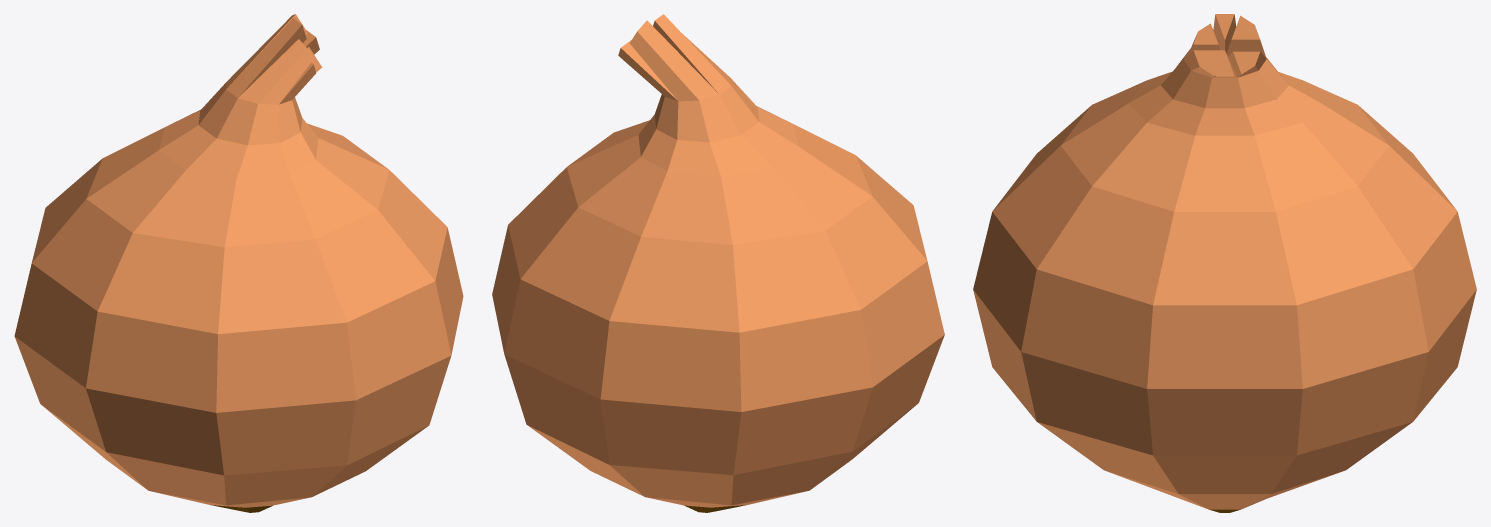
Rendered from Ma_Onion.fbx.
The picture shows the model from 3 angles, left to right: view 1: azimuth 30°, elevation 25°; view 2: azimuth 150°, elevation 25°; view 3: azimuth 270°, elevation 25°; orthographic projection. The views are drawn at different scales.
Visible parts, largest first — view 1: Ma_Onion; view 2: Ma_Onion; view 3: Ma_Onion.
Part boxes in pixels (x1=…): Ma_Onion: x1=14, y1=14, x2=463, y2=512; Ma_Onion: x1=492, y1=14, x2=944, y2=512; Ma_Onion: x1=973, y1=14, x2=1476, y2=512.
Size of the model in its own units: 80.11 by 84.87 by 96.34.
